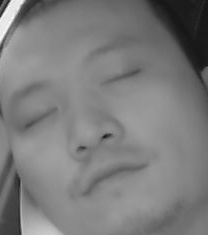blink: (100, 63, 145, 90), (23, 105, 61, 131)
mouth: (77, 160, 150, 196)
